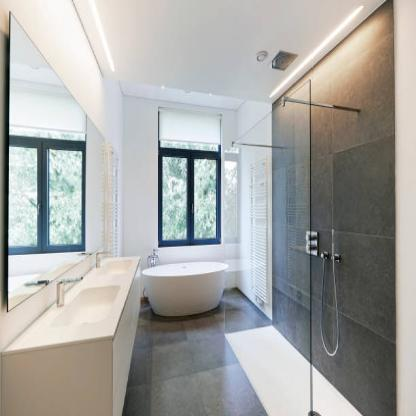Window: (157, 146, 221, 244)
